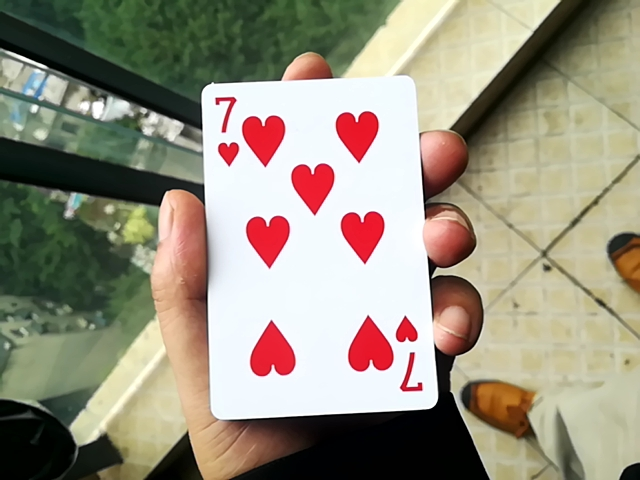hx 7: (192, 65, 428, 433)
